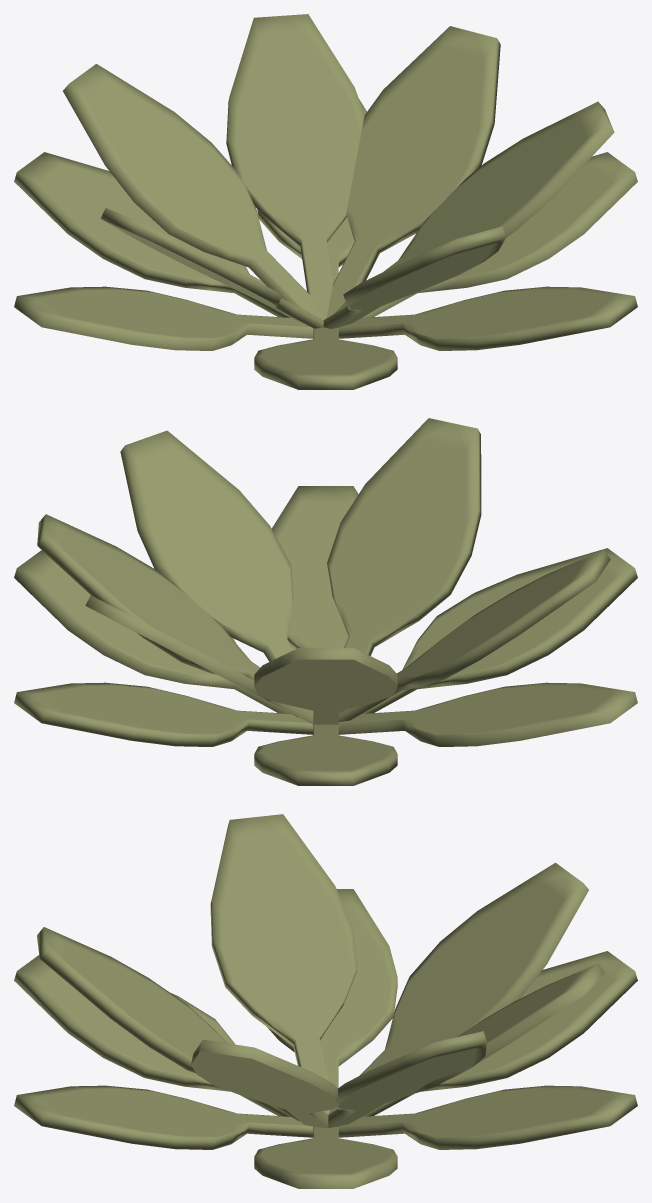
3 views of the same model, one above another, from view 1: azimuth 30°, elevation 25°; view 2: azimuth 150°, elevation 25°; view 3: azimuth 270°, elevation 25° (orthographic).
Parts seen in each view (by area): view 1: Leaf (×12); view 2: Leaf (×12); view 3: Leaf (×12).
Part boxes in pixels (<box>): Leaf (×12): <box>14,14,637,389</box>; Leaf (×12): <box>14,418,637,785</box>; Leaf (×12): <box>14,814,637,1188</box>.
Size of the model in its own units: 0.1092 by 0.0354 by 0.0989.
Materials: 1 (1 with a texture image).
